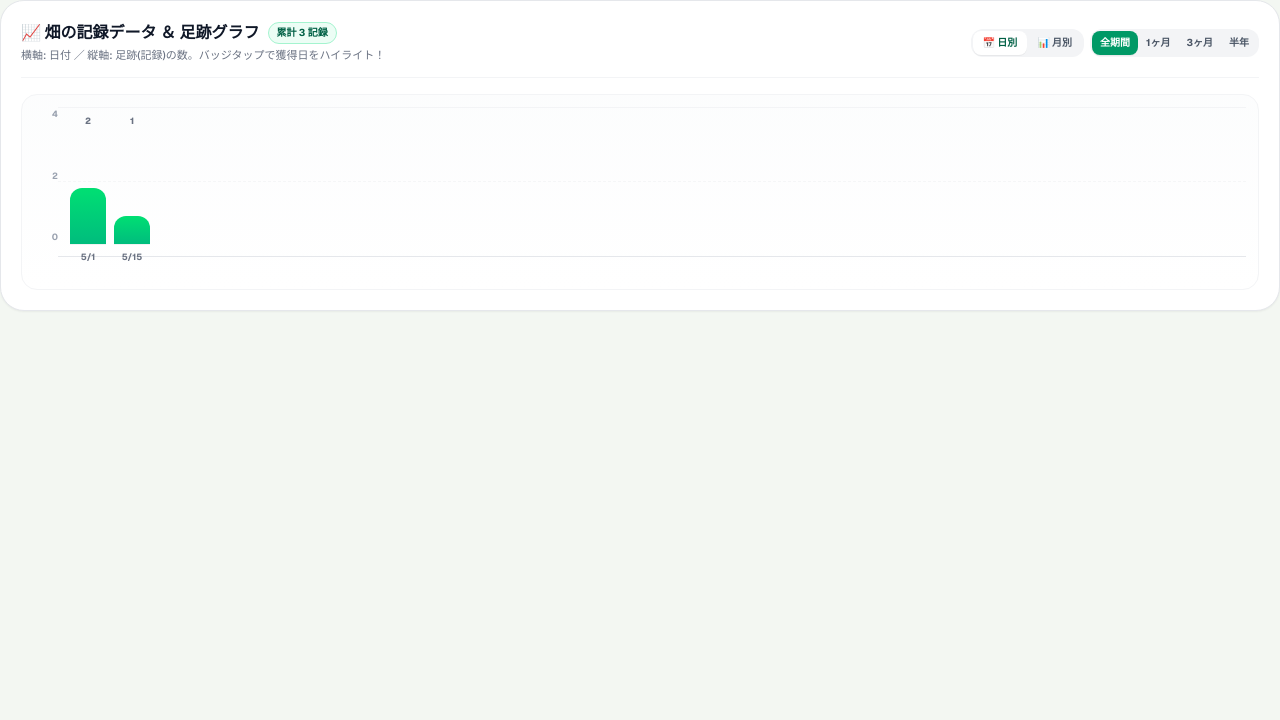
FarmFootprintChart › renders footprint chart with daily record bars and displays activities on click
The width and height of the screenshot is (1280, 720).
Expected: the text "📈 畑の記録データ ＆ 足跡グラフ" is shown, [21,21,260,45]
Expected: the text "累計 3 記録" is shown, [268,22,337,44]
Click the element showing "🚜 2 5/1": (88, 189) [70,110,106,269]
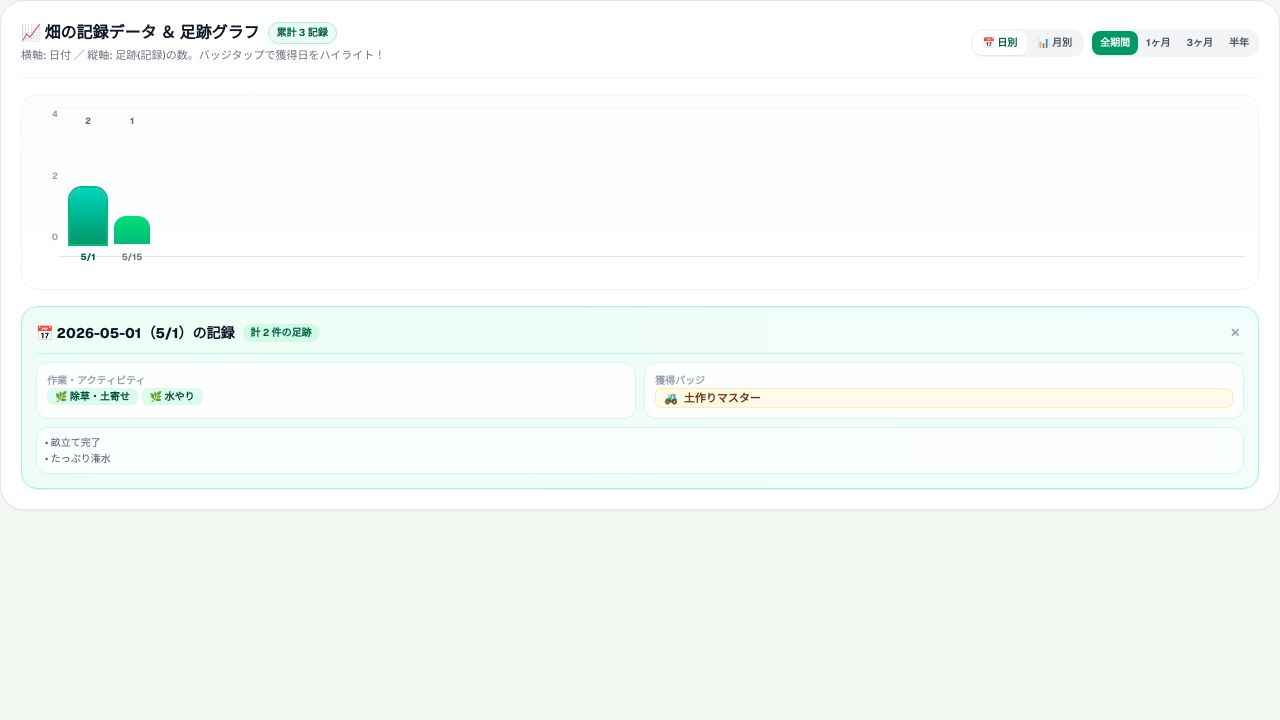
Result: the text "📅 2026-05-01（5/1）の記録" is shown at [36,323,234,343]
Result: the text "計 2 件の足跡" is shown at [242,324,320,342]
Result: the text "🌿 除草・土寄せ" is shown at [47,388,138,405]
